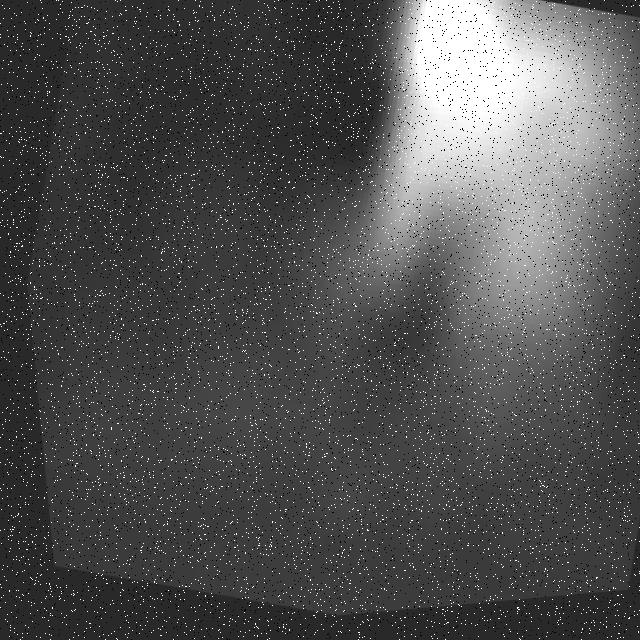person: (272, 1, 640, 477)
